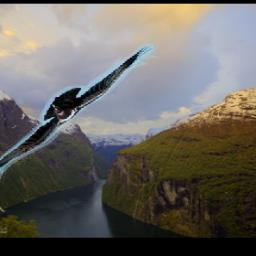Crow: (0, 43, 158, 187)
